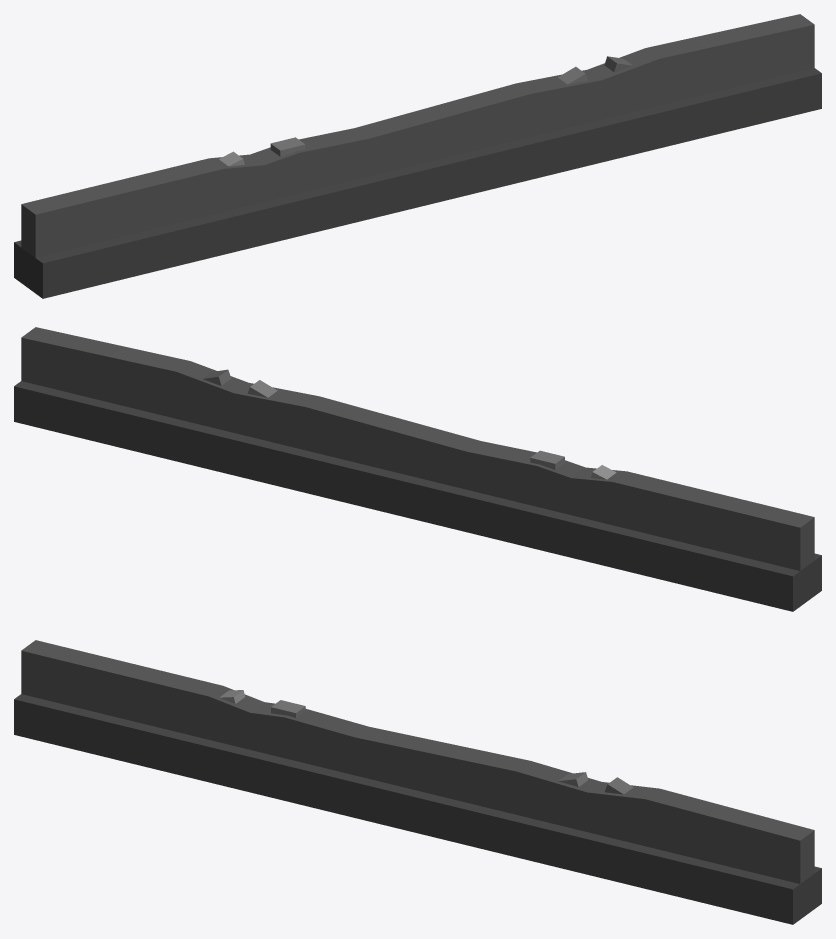
Rendered from Lesswall1.fbx.
The picture shows the model from 3 angles, top to bottom: view 1: azimuth 30°, elevation 25°; view 2: azimuth 150°, elevation 25°; view 3: azimuth 330°, elevation 25°; orthographic projection.
Parts seen in each view (by area): view 1: LessWall1; view 2: LessWall1; view 3: LessWall1.
Part boxes in pixels (x1=…): LessWall1: x1=14, y1=14, x2=821, y2=298; LessWall1: x1=14, y1=327, x2=821, y2=611; LessWall1: x1=14, y1=640, x2=821, y2=924.
Bounding box in the file's own units: 31 × 3.27 × 1.99.
